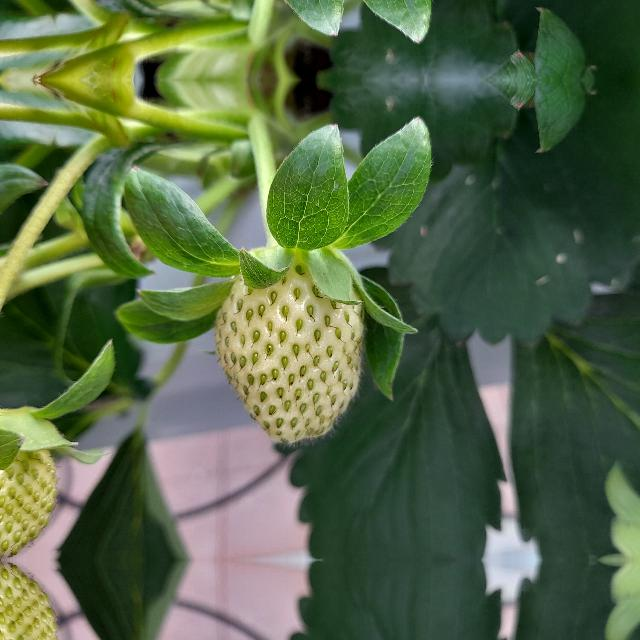Health_25: (212, 252, 366, 448)
